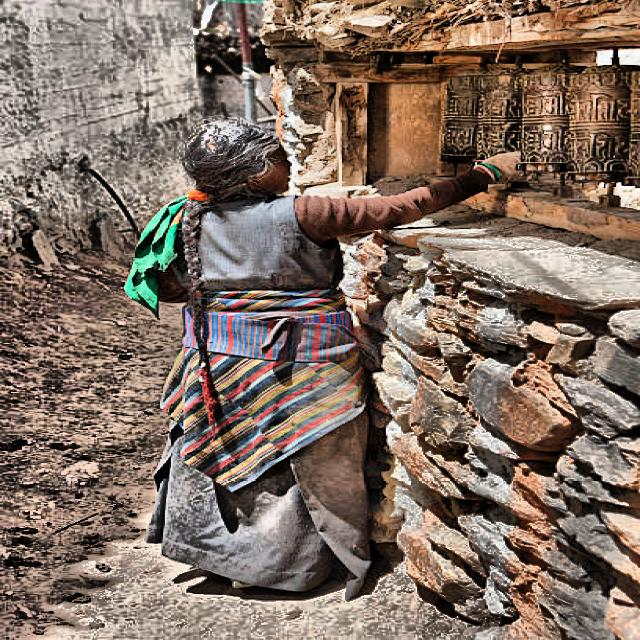Human: (129, 107, 463, 601)
